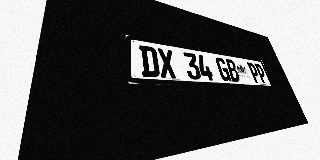3: (183, 52, 202, 80)
4: (196, 54, 214, 80)
B: (225, 59, 241, 82)
D: (139, 45, 160, 78)
G: (215, 57, 232, 81)
P: (246, 62, 262, 83), (254, 63, 268, 83)
X: (157, 48, 177, 78)
